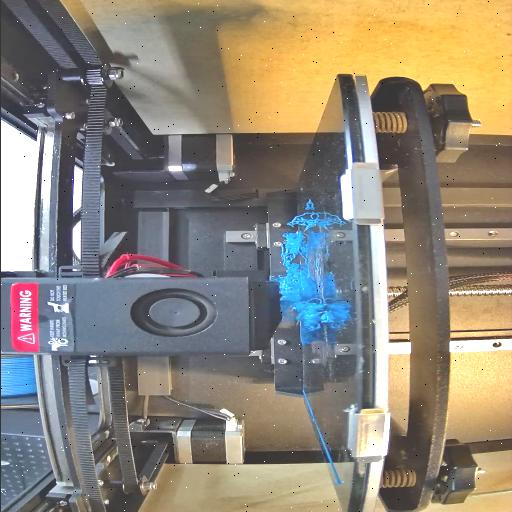spaghetti: (276, 232, 310, 316), (295, 297, 332, 337), (287, 212, 327, 230)
